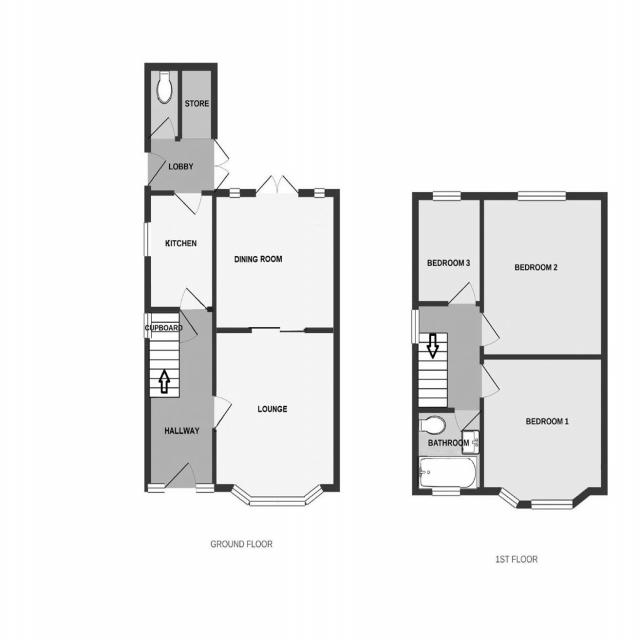DOOR: (164, 460, 197, 494), (143, 150, 169, 187), (453, 407, 486, 436), (211, 393, 235, 432), (479, 310, 503, 348), (479, 362, 503, 400), (447, 279, 478, 308), (179, 285, 209, 314), (173, 189, 204, 217), (178, 305, 200, 344)
DOUBLE DOOR: (255, 174, 299, 197), (213, 138, 230, 190)
ROOM: (212, 174, 340, 507), (479, 191, 608, 360), (479, 354, 608, 511), (411, 191, 485, 307)
WINDOW: (248, 495, 306, 507), (496, 486, 521, 511), (517, 190, 567, 202), (530, 498, 574, 511), (230, 483, 252, 507), (303, 483, 324, 507), (431, 485, 462, 498), (432, 190, 461, 203), (410, 310, 420, 345), (143, 312, 153, 340), (196, 481, 215, 494), (147, 482, 166, 494), (143, 221, 149, 258), (229, 188, 241, 199), (314, 187, 325, 199)
